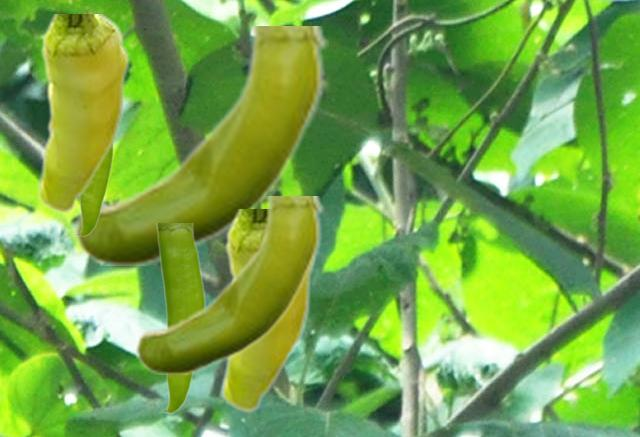green_chili: (71, 26, 327, 264), (133, 196, 323, 373), (220, 209, 315, 412), (36, 14, 129, 213), (155, 223, 204, 413), (72, 148, 112, 236)
